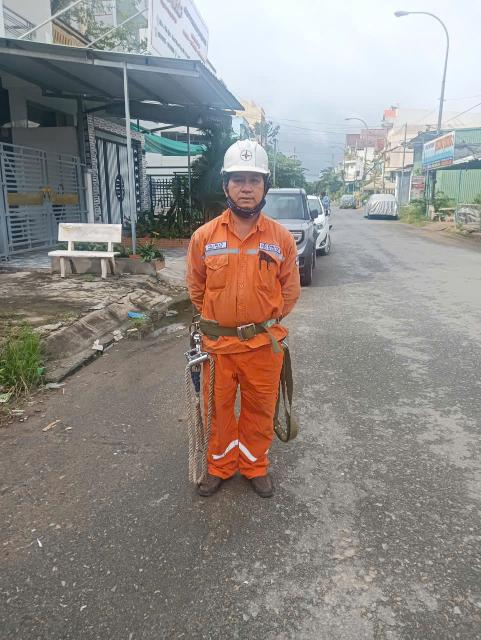harness: (174, 298, 293, 358)
helmet: (219, 126, 276, 188)
shoes: (247, 454, 282, 507), (194, 465, 233, 504)
